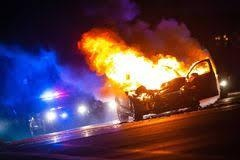fire: (79, 31, 211, 96)
